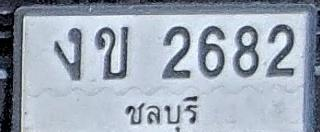2: (162, 26, 191, 78), (267, 24, 294, 76)
6: (199, 25, 225, 77)
8: (233, 25, 259, 77)
A02: (94, 25, 130, 80)
A07: (54, 27, 82, 80)
CBI: (120, 95, 199, 132)
